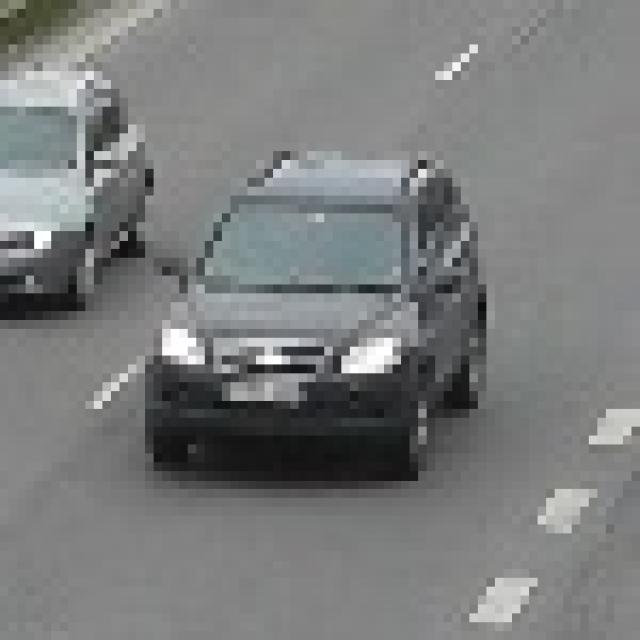SUV: (163, 166, 476, 458)
